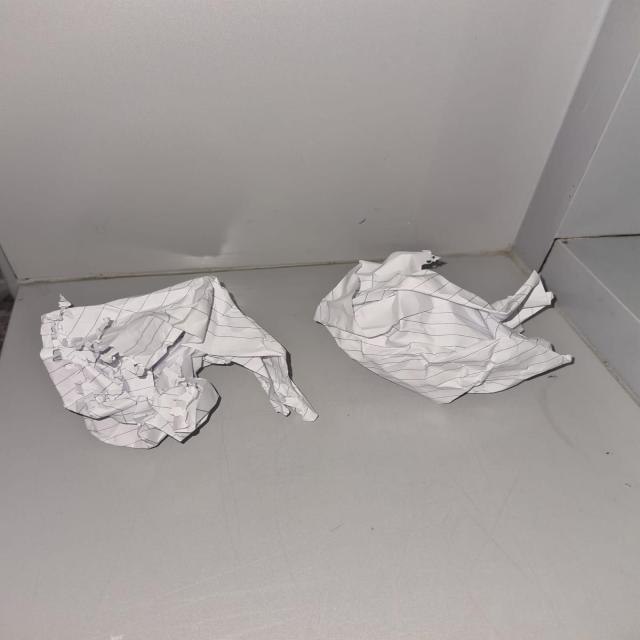cardboard paper: (40, 275, 315, 446), (313, 250, 571, 401)
